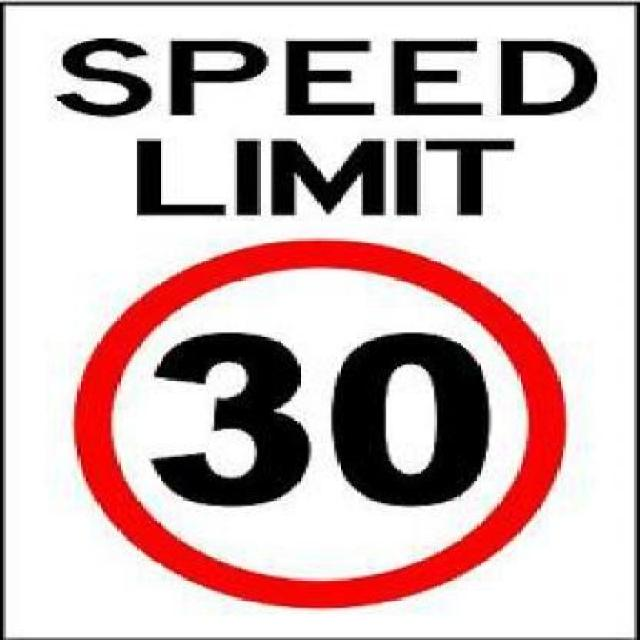forb_speed_over_30: (78, 239, 569, 610)
